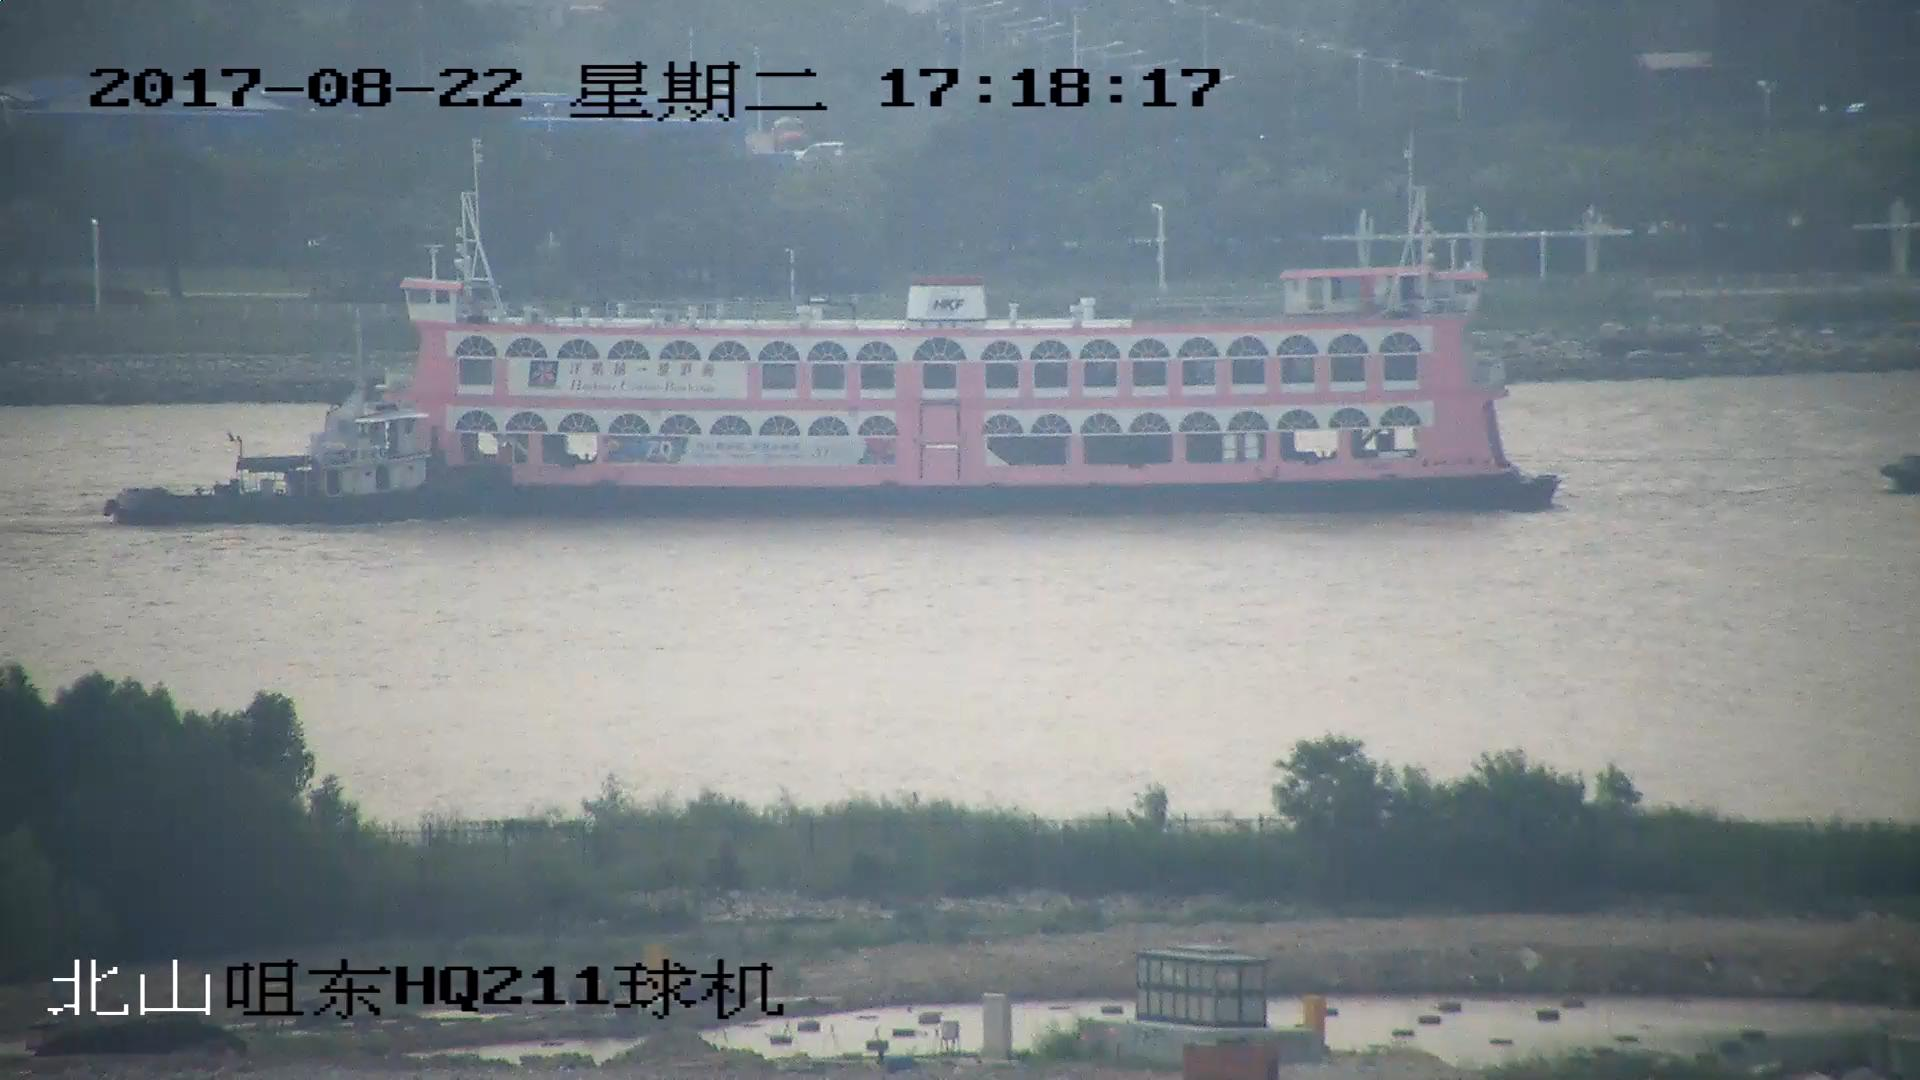passenger ship: (102, 141, 1568, 519)
